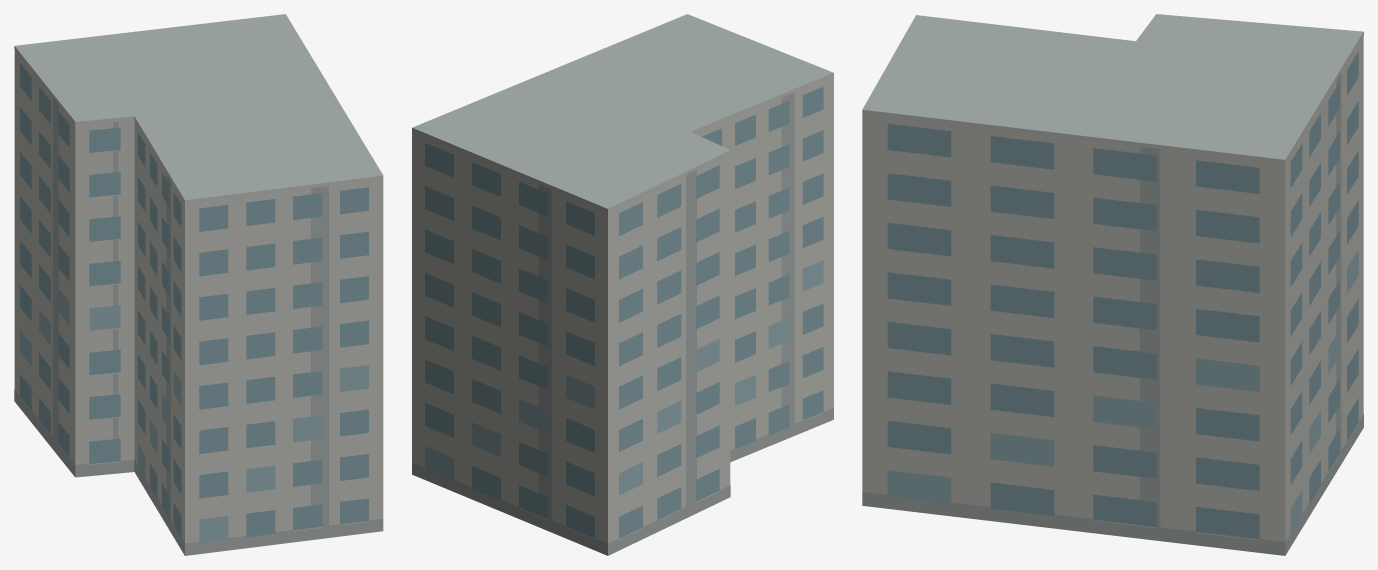
File: survey-upis-32489596.glb
3 views of the same model, side by side, from view 1: azimuth 30°, elevation 25°; view 2: azimuth 150°, elevation 25°; view 3: azimuth 270°, elevation 25° (orthographic). The views are drawn at different scales.
Parts seen in each view (by area): view 1: survey-upis-32489596.tmp; view 2: survey-upis-32489596.tmp; view 3: survey-upis-32489596.tmp.
Part boxes in pixels (left/top/right/bottom): survey-upis-32489596.tmp: left=14, top=14, right=383, bottom=555; survey-upis-32489596.tmp: left=412, top=14, right=833, bottom=555; survey-upis-32489596.tmp: left=862, top=14, right=1363, bottom=555.
Bounding box in the file's own units: 19.28 × 24.4 × 28.01.
